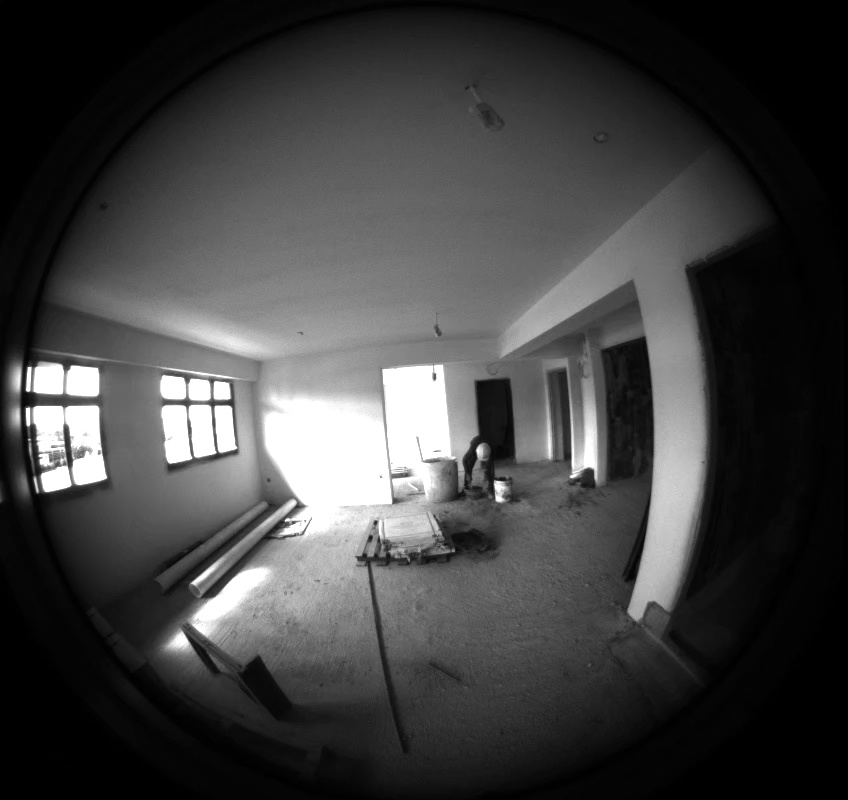Building materials: (35, 44, 457, 501), (98, 52, 454, 564), (110, 96, 290, 718), (107, 99, 296, 597), (113, 90, 267, 591)
Ceiling: (0, 0, 713, 541)
Door: (50, 242, 651, 580), (50, 141, 651, 479), (22, 91, 570, 460), (38, 79, 514, 458)
Electrical cable: (9, 24, 442, 337), (13, 10, 607, 142), (39, 46, 504, 130)
Floor: (105, 332, 699, 795)
Tools: (27, 20, 595, 487), (42, 191, 407, 752)
Wall: (274, 143, 772, 611), (74, 263, 705, 610), (105, 102, 549, 460), (41, 243, 385, 606), (238, 169, 494, 503)
Windows: (77, 95, 235, 466), (25, 131, 105, 492)
